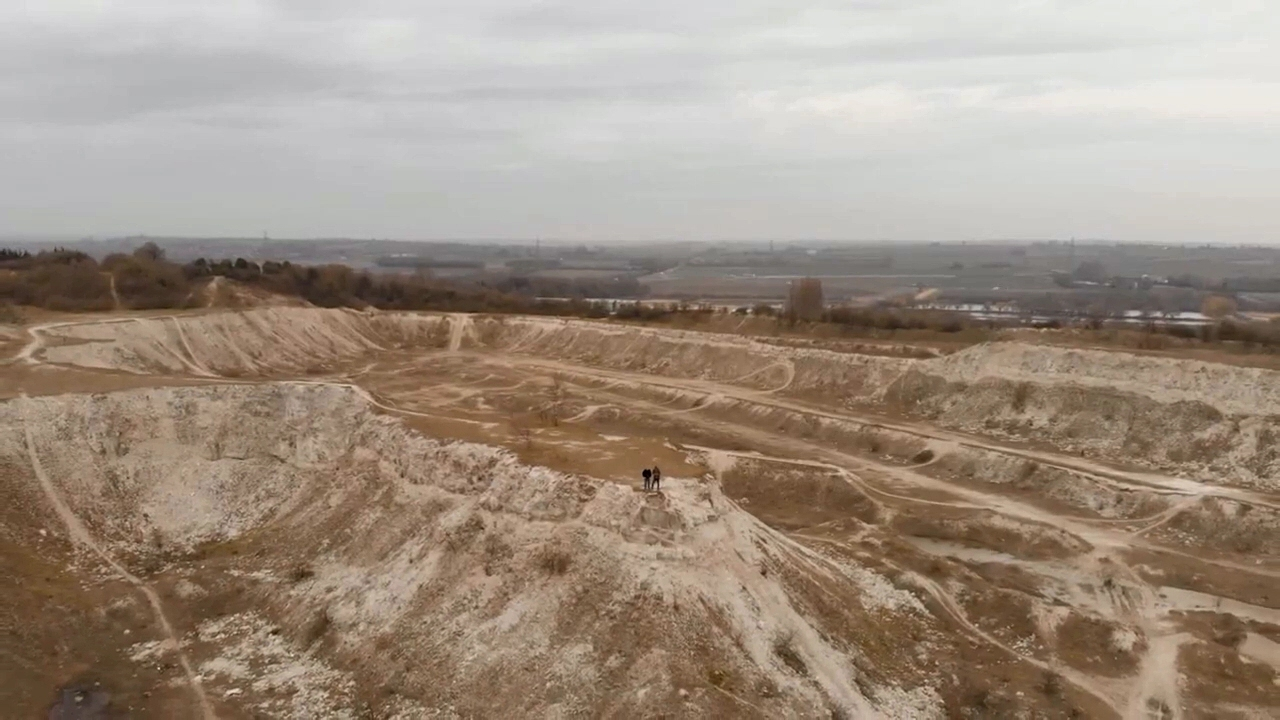insan: (639, 461, 654, 497), (651, 460, 666, 495)
